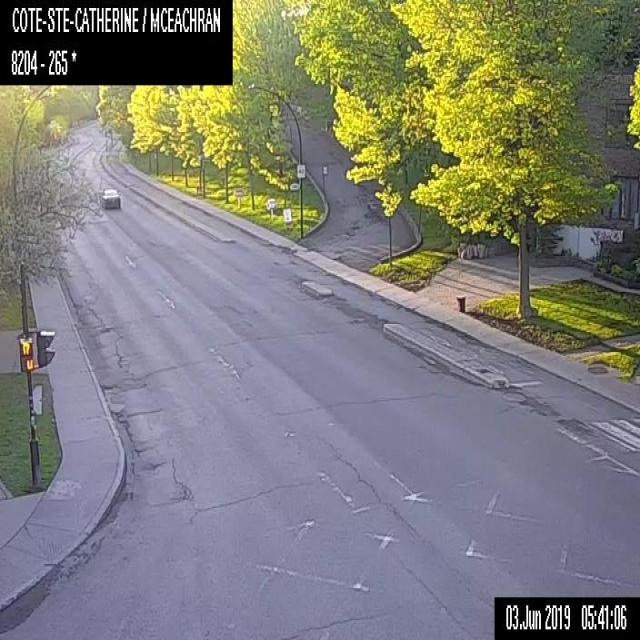vehicle: (99, 187, 120, 208)
